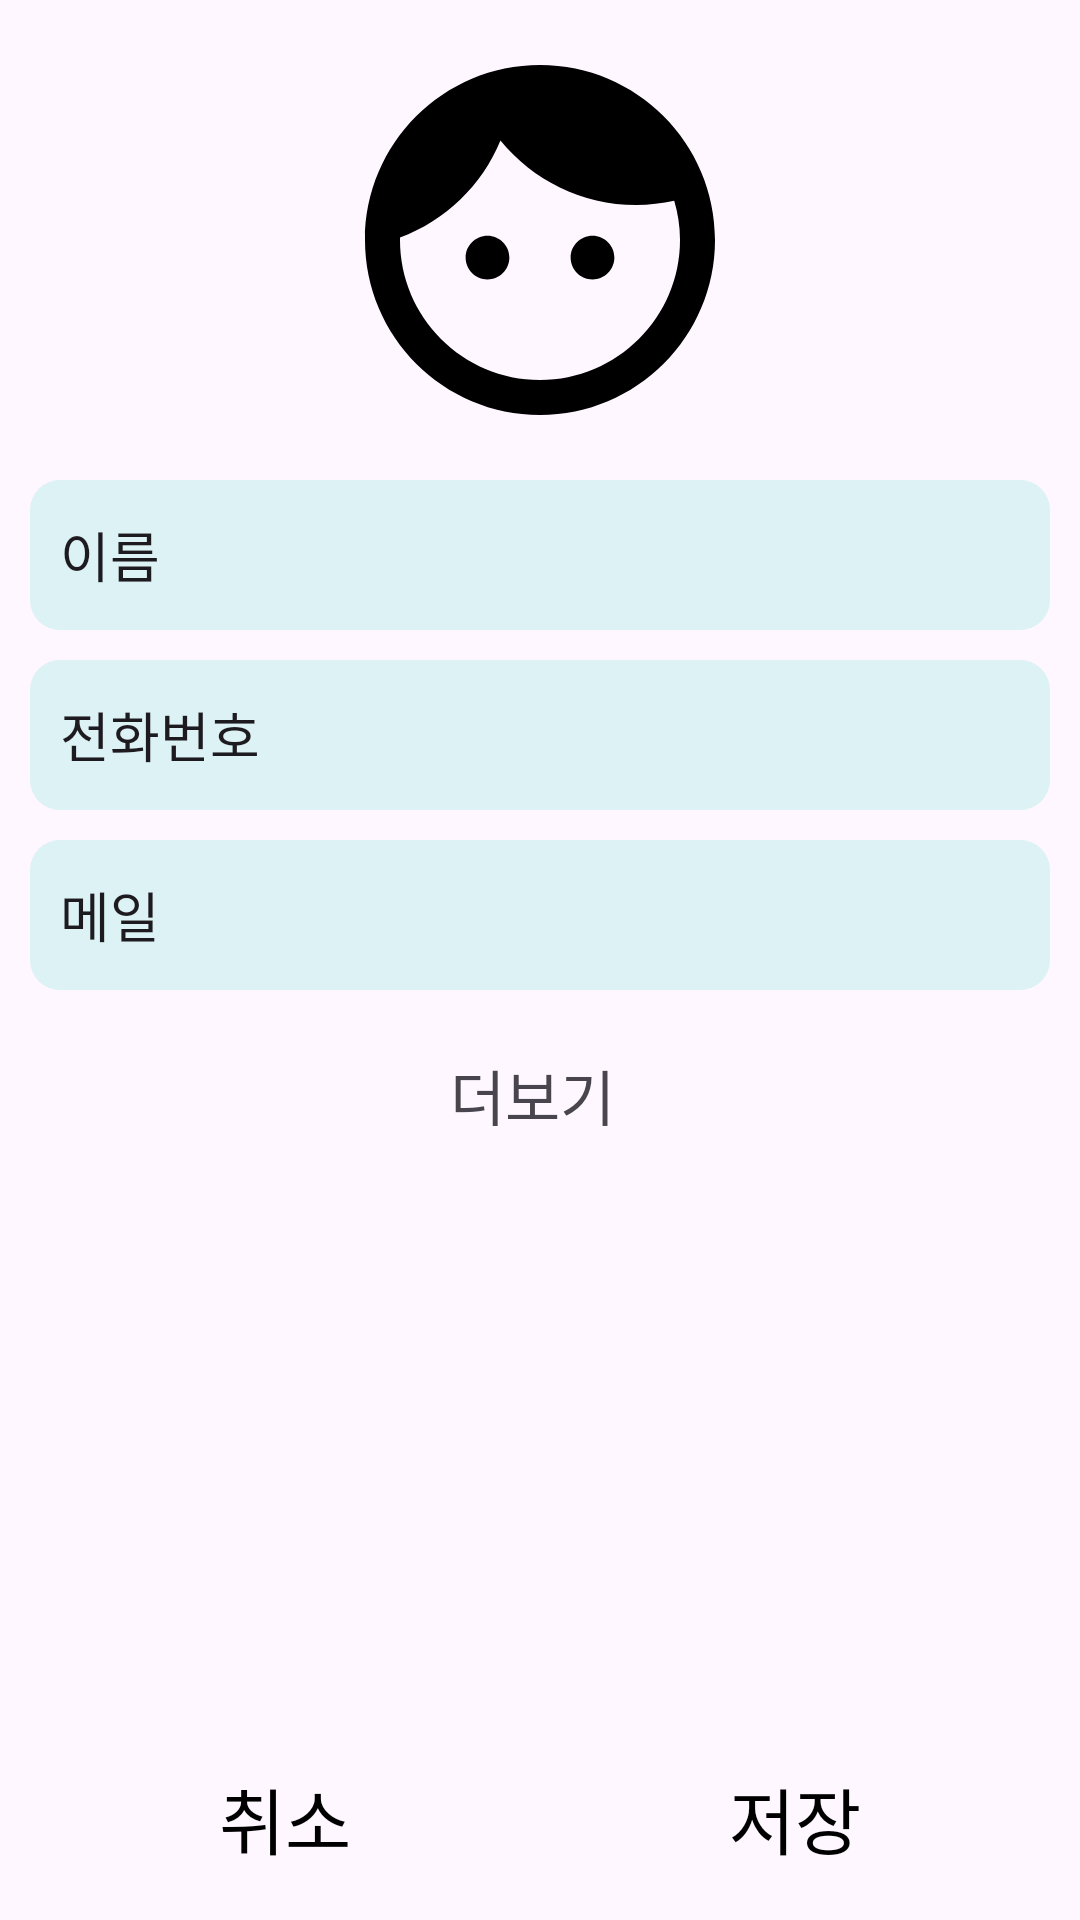

Named icons in this screenshot (1080*1920) and their centers, (x=x, y=y):
face: (x=540, y=240)
